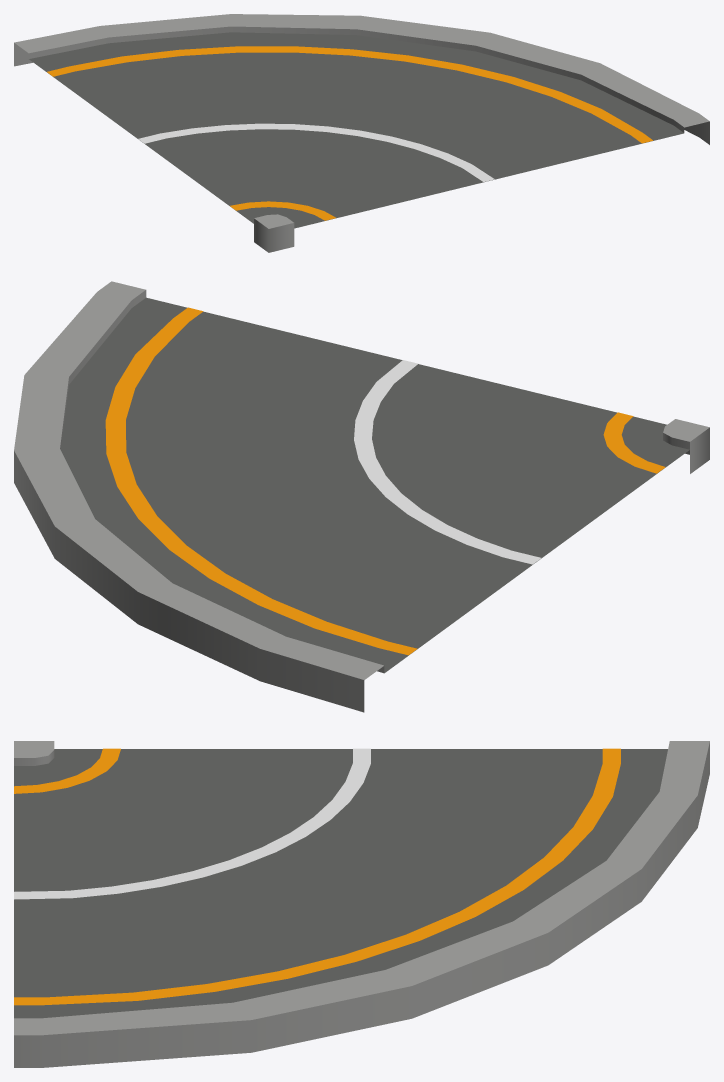
Rendered from Road_B_8.fbx.
The picture shows the model from 3 angles, top to bottom: view 1: azimuth 30°, elevation 25°; view 2: azimuth 150°, elevation 25°; view 3: azimuth 270°, elevation 25°; orthographic projection. The views are drawn at different scales.
Visible parts, largest first — view 1: Road_B_8; view 2: Road_B_8; view 3: Road_B_8.
Boxes of the visible parts, <box> form: Road_B_8: <box>14,14,709,252</box>; Road_B_8: <box>14,281,709,712</box>; Road_B_8: <box>14,741,709,1067</box>.
Bounding box in the file's own units: 800 × 41.48 × 800.
